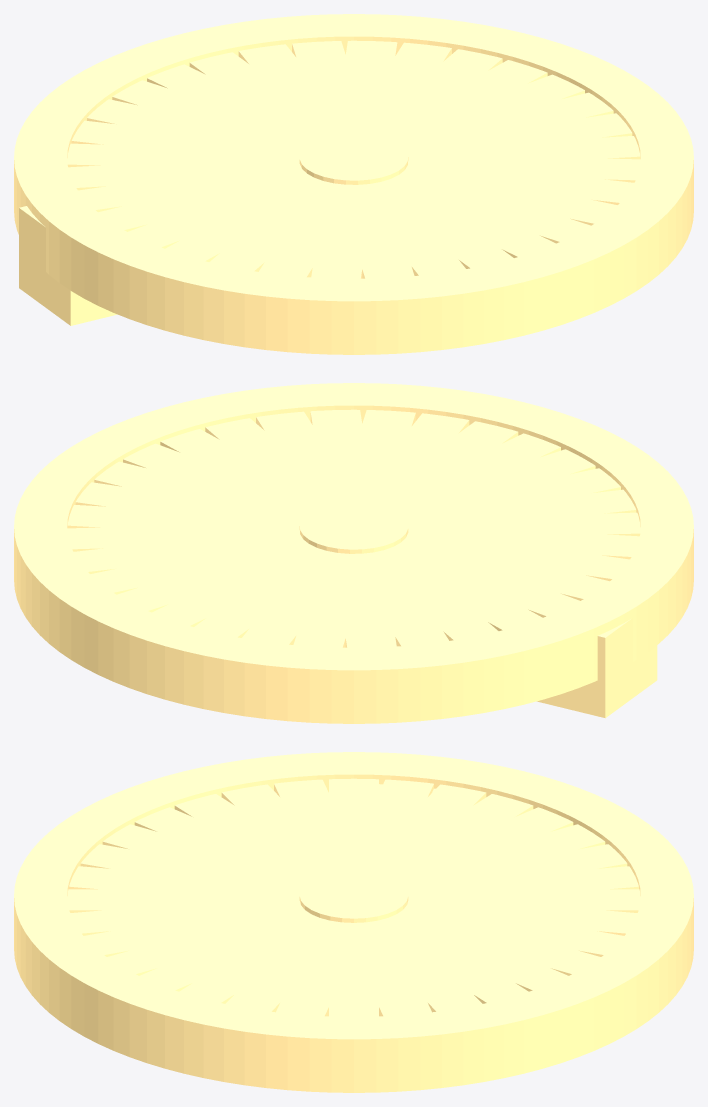
File: ashoka_chakra.glb
3 renders of one model, top to bottom at view 1: azimuth 30°, elevation 25°; view 2: azimuth 150°, elevation 25°; view 3: azimuth 270°, elevation 25°, orthographic.
Parts seen in each view (by area): view 1: ashoka_chakra; view 2: ashoka_chakra; view 3: ashoka_chakra.
Boxes of the visible parts, <box> form: ashoka_chakra: <box>14,14,693,354</box>; ashoka_chakra: <box>14,383,693,723</box>; ashoka_chakra: <box>14,752,693,1092</box>.
Bounding box in the file's own units: 4 × 0.5809 × 4.
